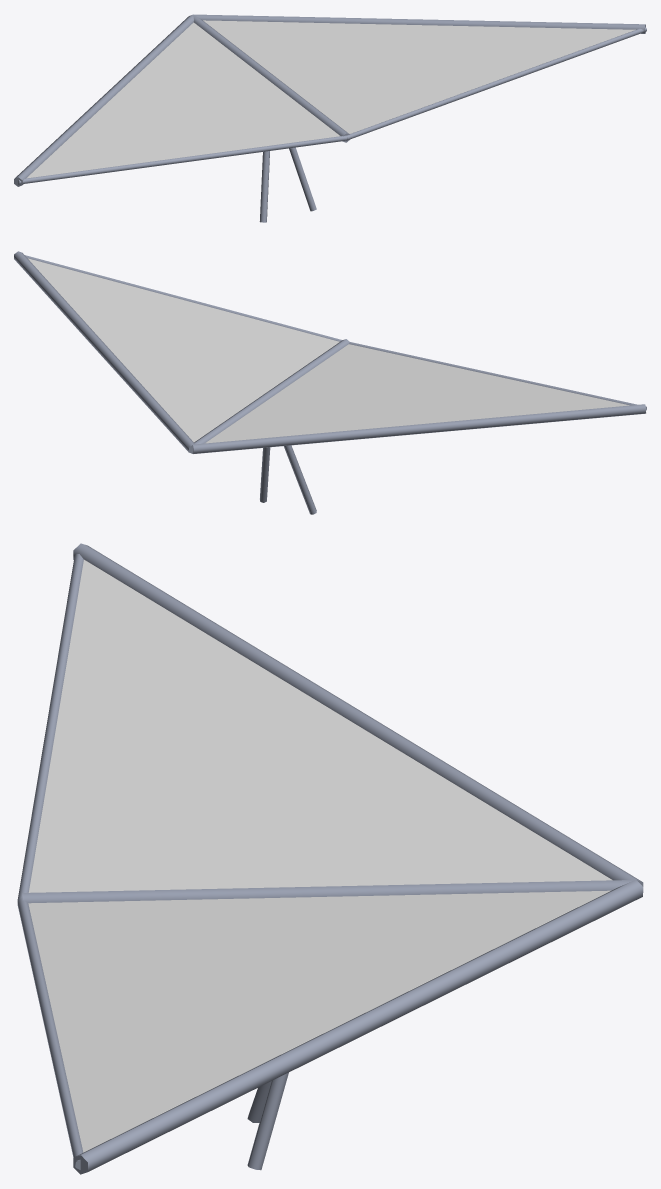
File: part_glider.glb
The picture shows the model from 3 angles, top to bottom: view 1: azimuth 30°, elevation 25°; view 2: azimuth 150°, elevation 25°; view 3: azimuth 270°, elevation 25°; orthographic projection. The views are drawn at different scales.
Visible parts, largest first — view 1: part_glider; view 2: part_glider; view 3: part_glider.
Part boxes in pixels (x1,y1,x2,y2): part_glider: (14,14,646,222); part_glider: (14,251,646,514); part_glider: (17,543,643,1174).
Bounding box in the file's own units: 3.02 × 0.6774 × 1.3.
